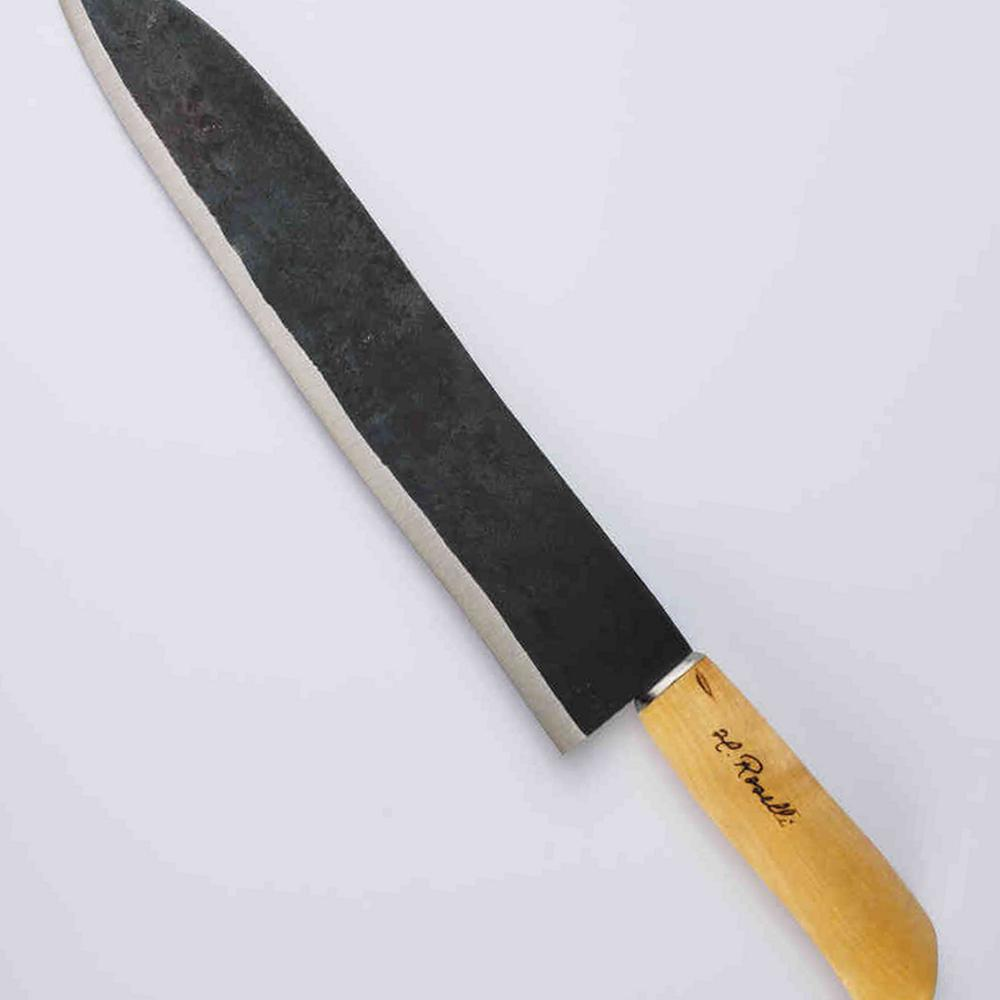knife: (50, 1, 944, 1000)
